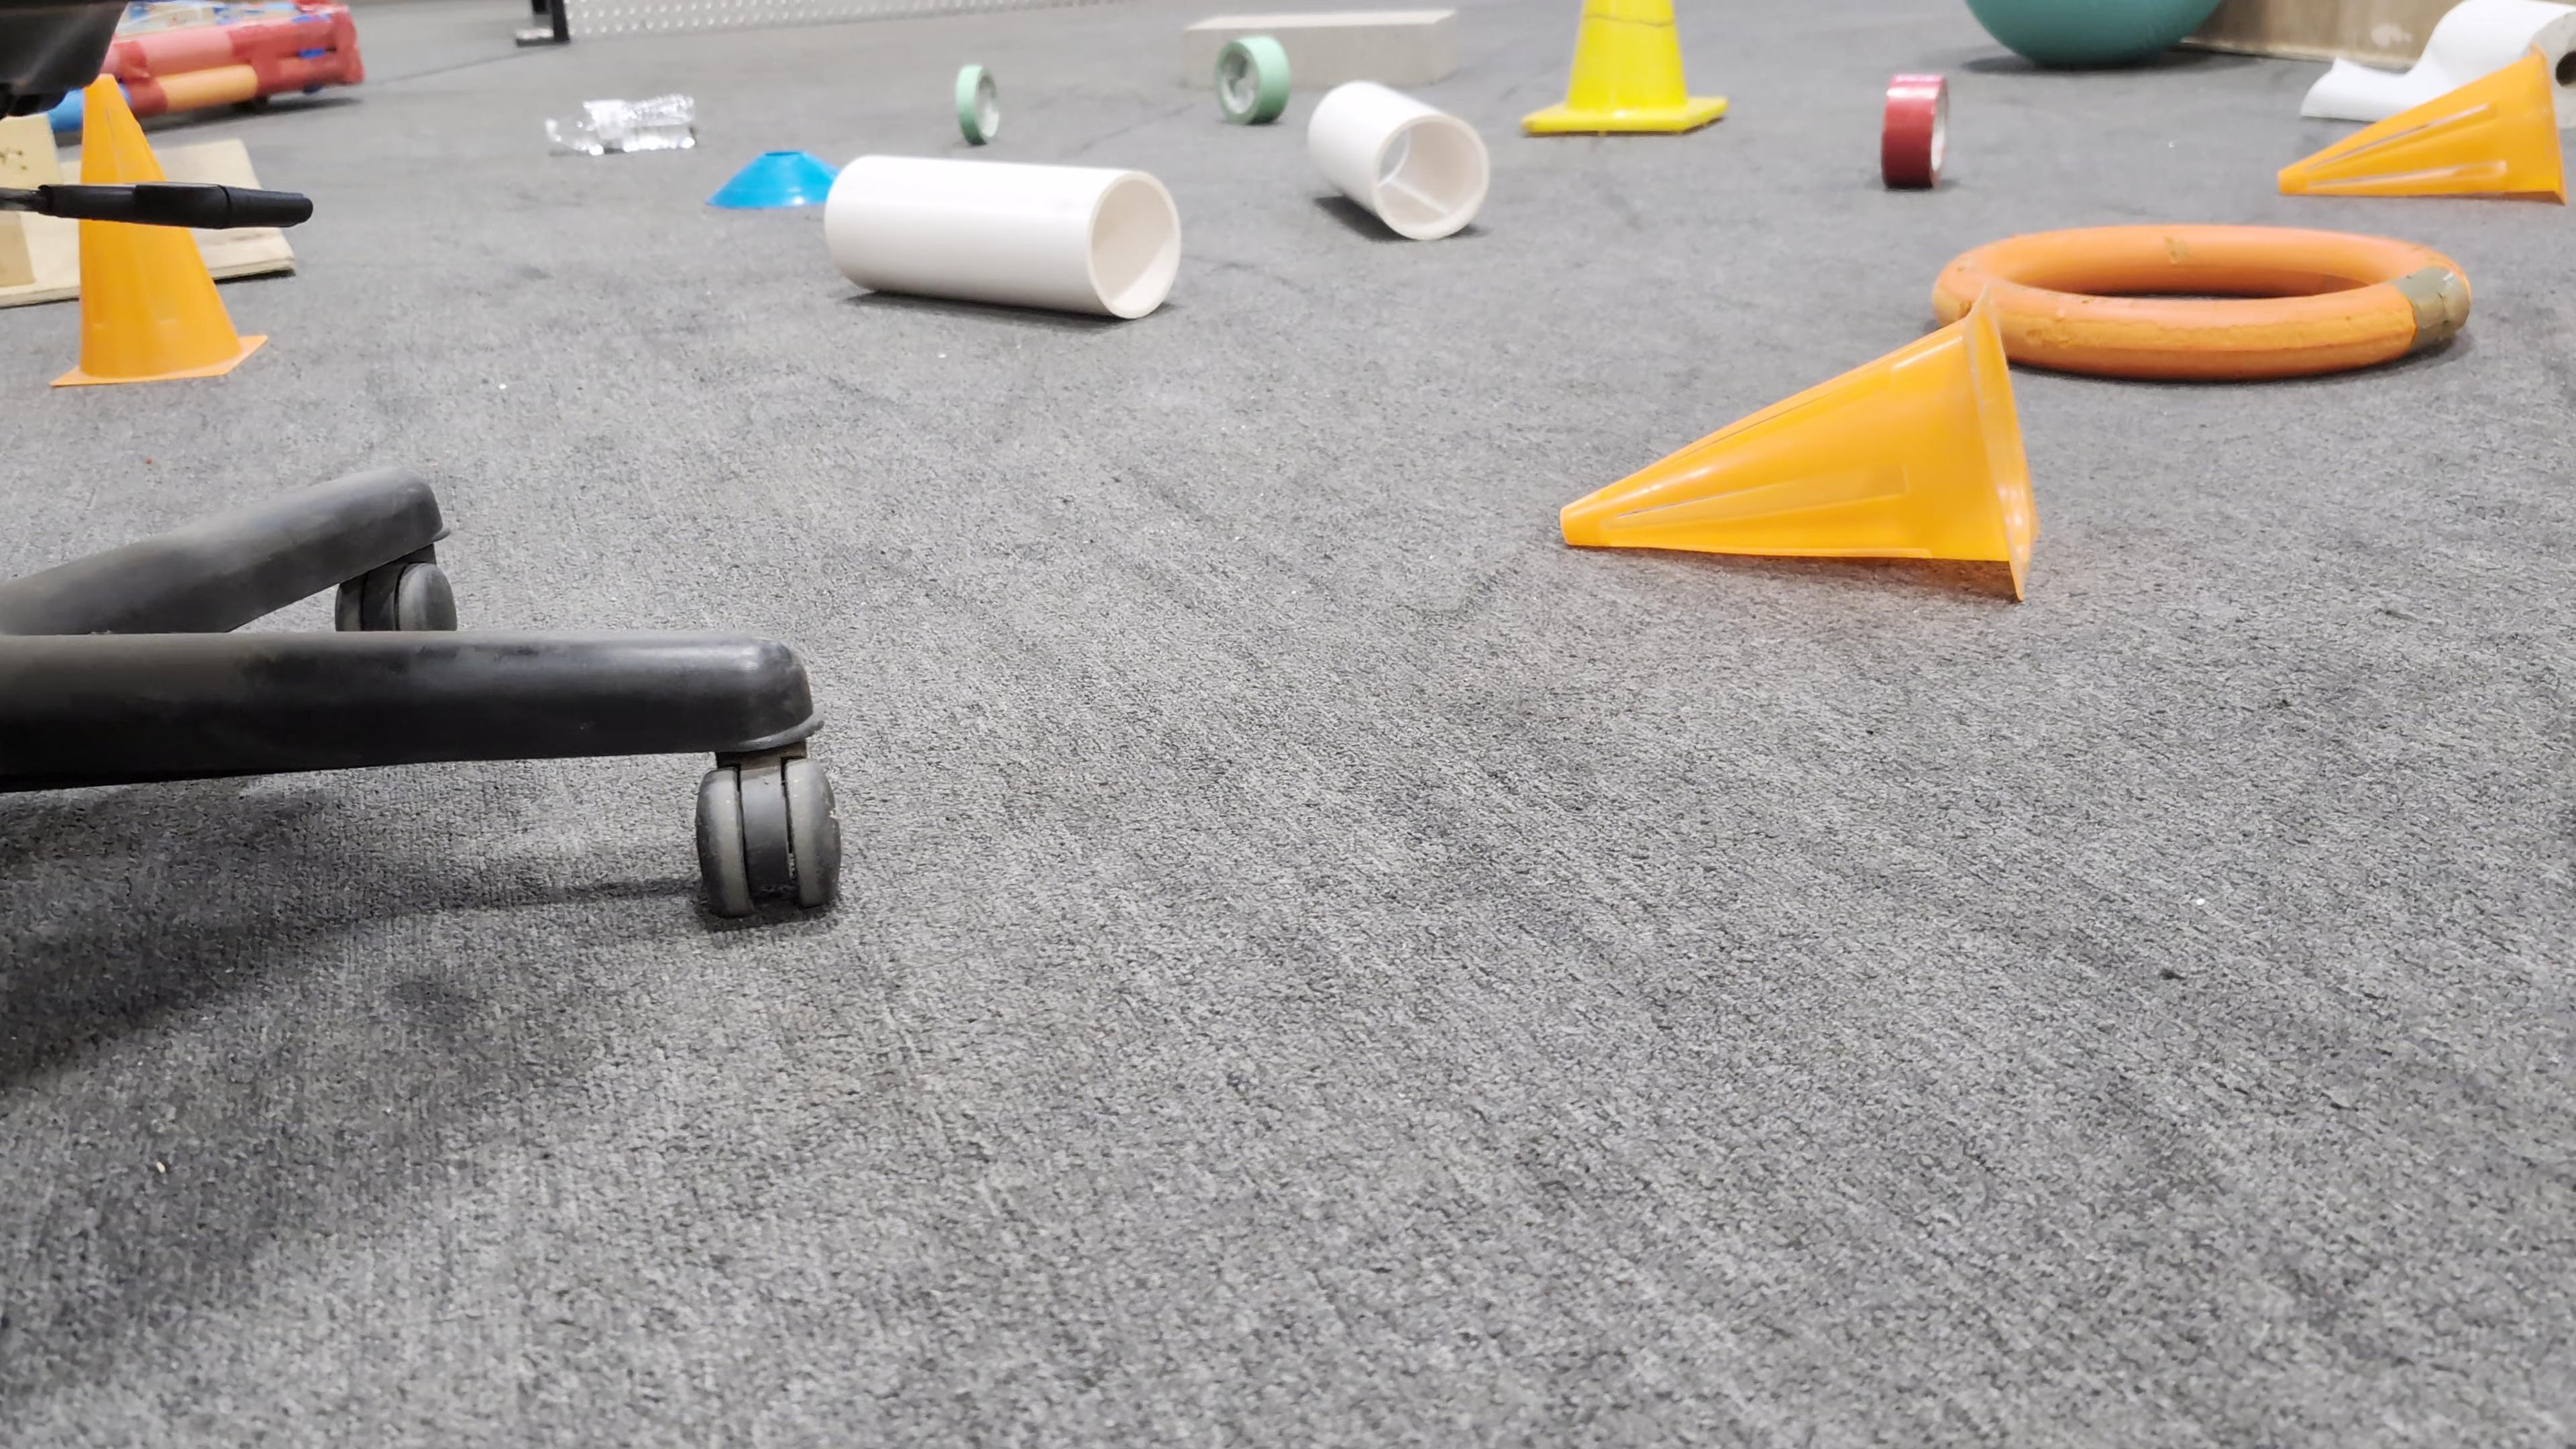algae: (1964, 0, 2222, 67)
coral: (821, 147, 1182, 317), (1302, 76, 1491, 239)
